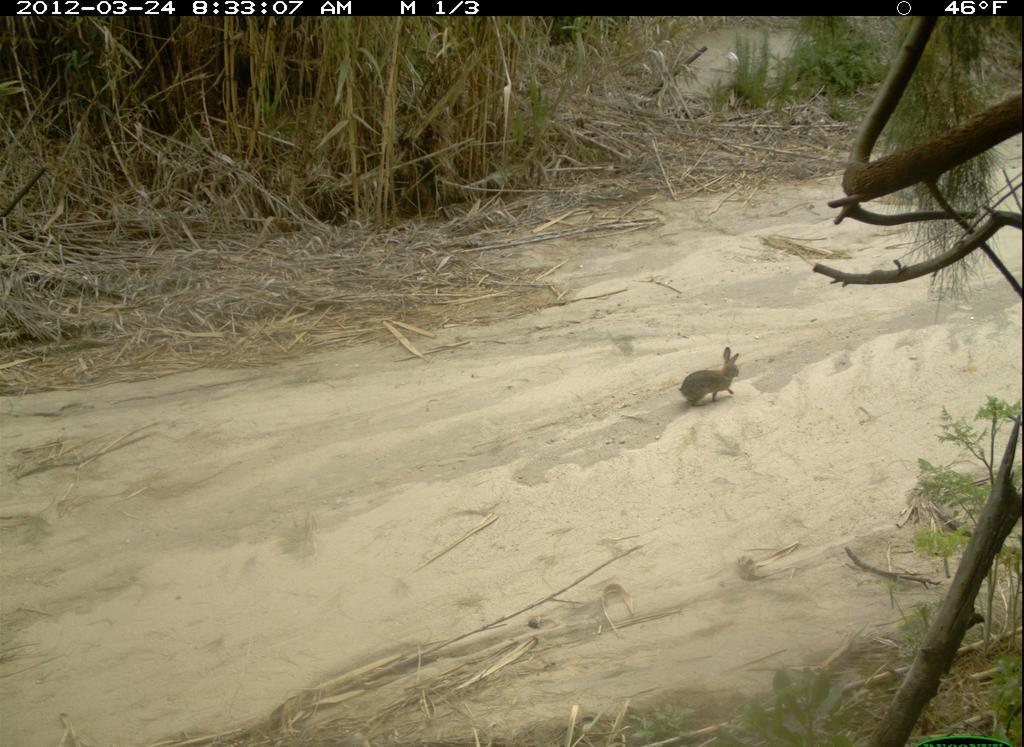rabbit: (675, 341, 751, 413)
